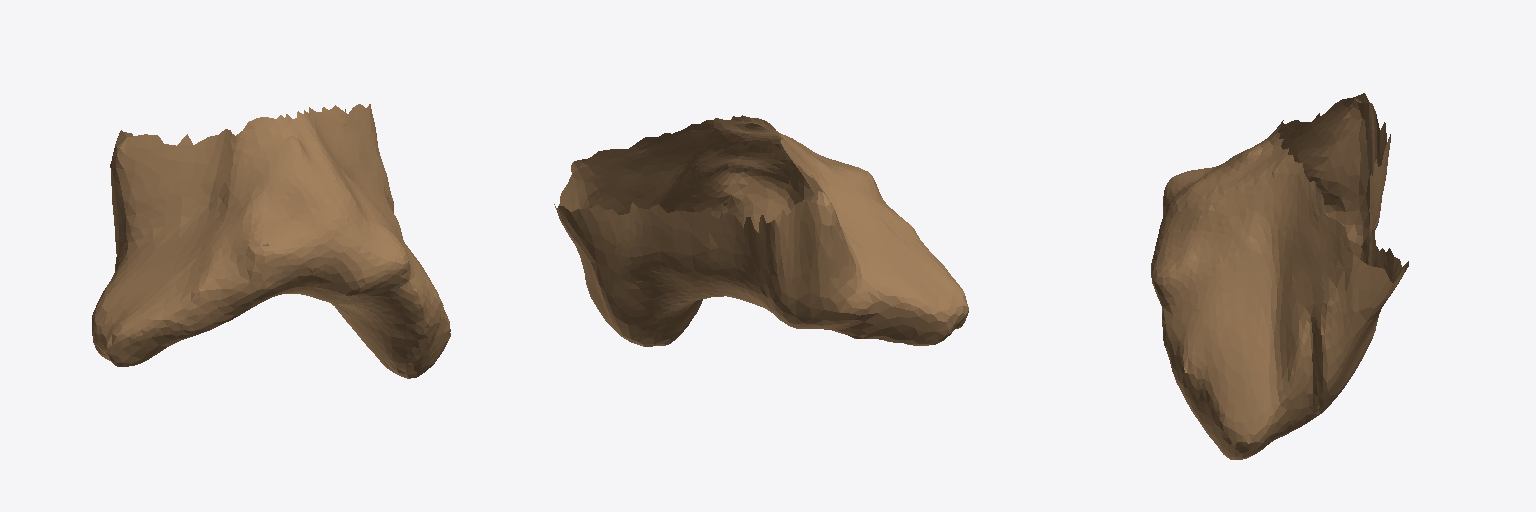
Rendered from corpus_callosum_splenium.obj.
3 views of the same model, side by side, from view 1: azimuth 30°, elevation 25°; view 2: azimuth 150°, elevation 25°; view 3: azimuth 270°, elevation 25° (orthographic).
Visible parts, largest first — view 1: Corpus_Callosum_Splenium_Corpus_Callosum.003; view 2: Corpus_Callosum_Splenium_Corpus_Callosum.003; view 3: Corpus_Callosum_Splenium_Corpus_Callosum.003.
Boxes of the visible parts, <box> form: Corpus_Callosum_Splenium_Corpus_Callosum.003: <box>92,104,450,378</box>; Corpus_Callosum_Splenium_Corpus_Callosum.003: <box>554,115,968,346</box>; Corpus_Callosum_Splenium_Corpus_Callosum.003: <box>1151,93,1408,459</box>.
Bounding box in the file's own units: 116 × 86.29 × 73.86.